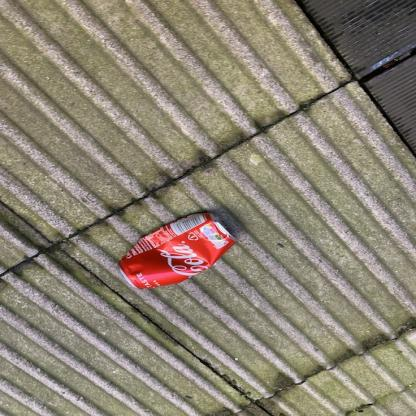trash: (114, 214, 244, 304)
